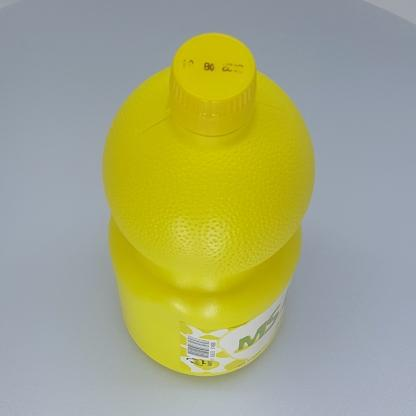-------: (102, 33, 315, 376)
